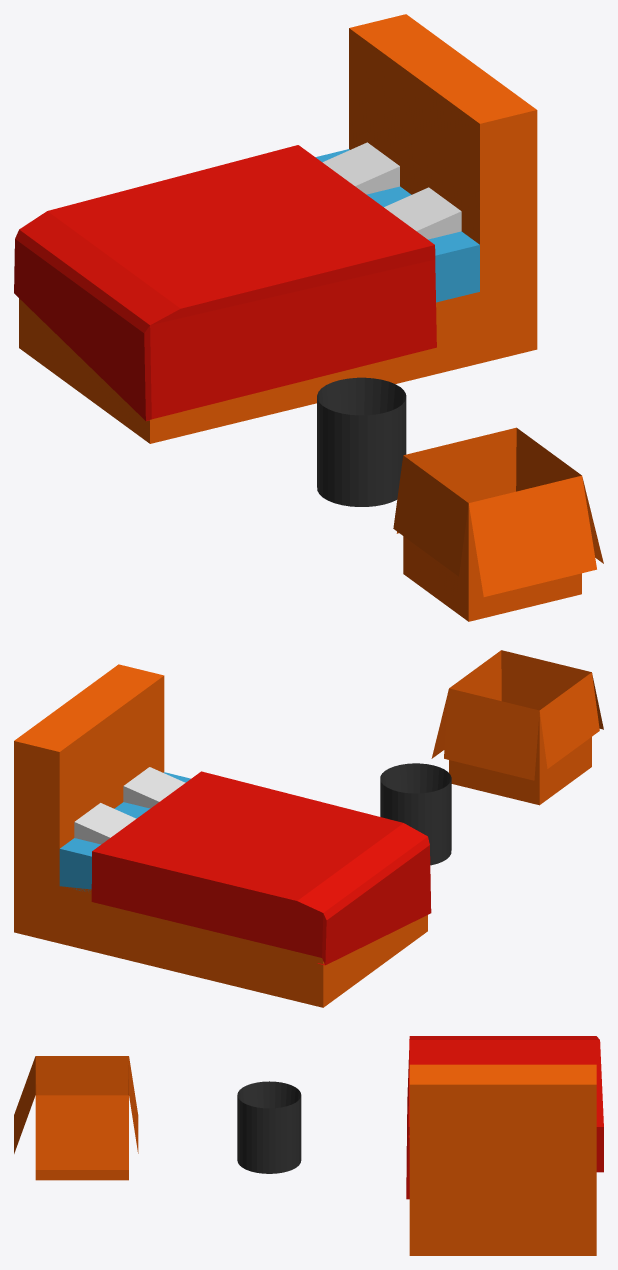
File: Props.fbx
The picture shows the model from 3 angles, top to bottom: view 1: azimuth 30°, elevation 25°; view 2: azimuth 150°, elevation 25°; view 3: azimuth 270°, elevation 25°; orthographic projection. The views are drawn at different scales.
Parts seen in each view (by area): view 1: Bed, Cardboard, Trash Can; view 2: Bed, Cardboard, Trash Can; view 3: Bed, Cardboard, Trash Can.
Part boxes in pixels (box(x1,y1,x2,y2)): Bed: box(14, 14, 537, 443); Cardboard: box(393, 427, 603, 621); Trash Can: box(317, 377, 406, 506); Bed: box(14, 664, 431, 1007); Cardboard: box(431, 650, 603, 805); Trash Can: box(380, 763, 451, 865); Bed: box(406, 1036, 603, 1255); Cardboard: box(14, 1056, 138, 1180); Trash Can: box(237, 1081, 301, 1173).
Bounding box in the file's own units: 345 × 202 × 631.
